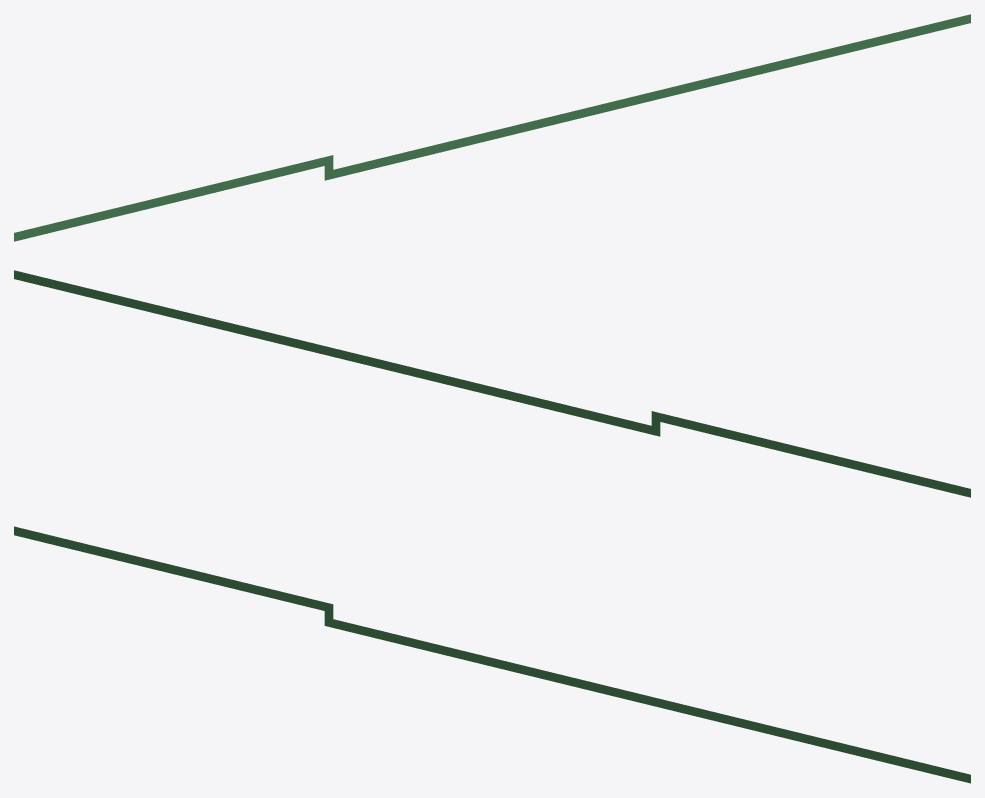
File: linea_touch.FBX
3 views of the same model, one above another, from view 1: azimuth 30°, elevation 25°; view 2: azimuth 150°, elevation 25°; view 3: azimuth 330°, elevation 25° (orthographic).
Parts seen in each view (by area): view 1: Line01; view 2: Line01; view 3: Line01.
Boxes of the visible parts, x1,y1,x2,y2 form: Line01: [14, 14, 970, 241]; Line01: [14, 270, 970, 497]; Line01: [14, 526, 970, 783].
Size of the model in its own units: 113 by 2.34e-07 by 2.68.
